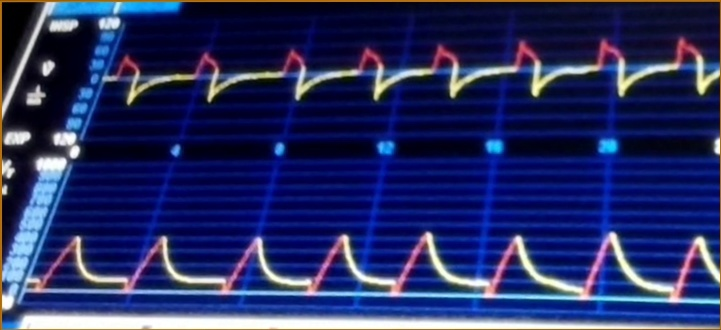Flow: (115, 29, 721, 127)
Leakage Volume: (29, 226, 721, 310)
